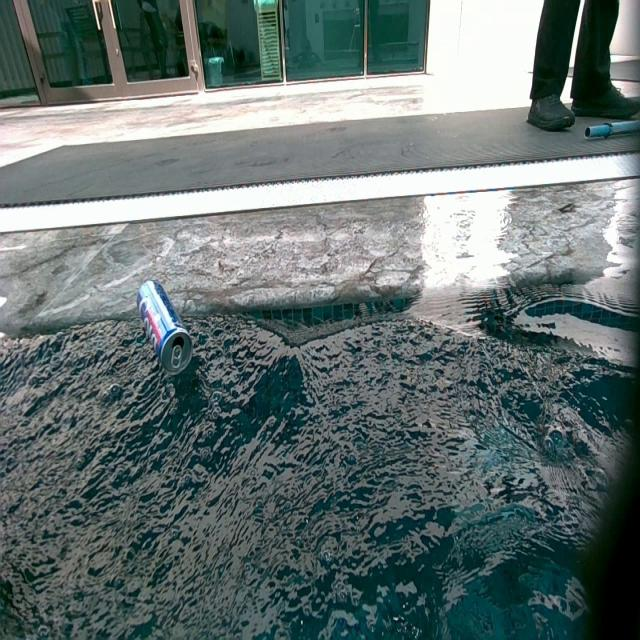Cans: (135, 276, 194, 379)
